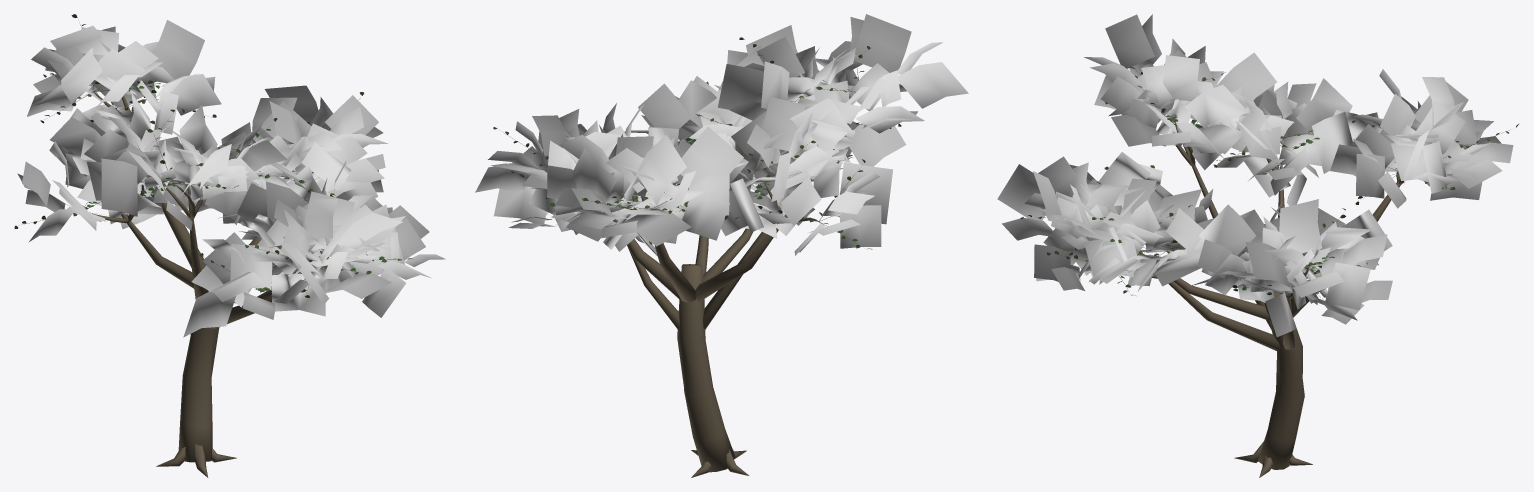
The model's file is V7_CheneVert_1_Niveau0.fbx.
3 views of the same model, side by side, from view 1: azimuth 30°, elevation 25°; view 2: azimuth 150°, elevation 25°; view 3: azimuth 270°, elevation 25° (orthographic). The views are drawn at different scales.
Parts seen in each view (by area): view 1: V7_CheneVert_1; view 2: V7_CheneVert_1; view 3: V7_CheneVert_1.
Part boxes in pixels (bbox=[...]): V7_CheneVert_1: bbox=[14, 14, 445, 477]; V7_CheneVert_1: bbox=[475, 14, 968, 477]; V7_CheneVert_1: bbox=[997, 14, 1519, 477].
Bounding box in the file's own units: 641 × 656 × 806.
